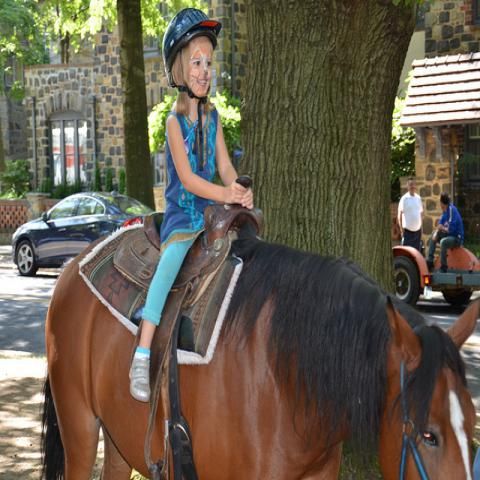car: (11, 190, 154, 276)
